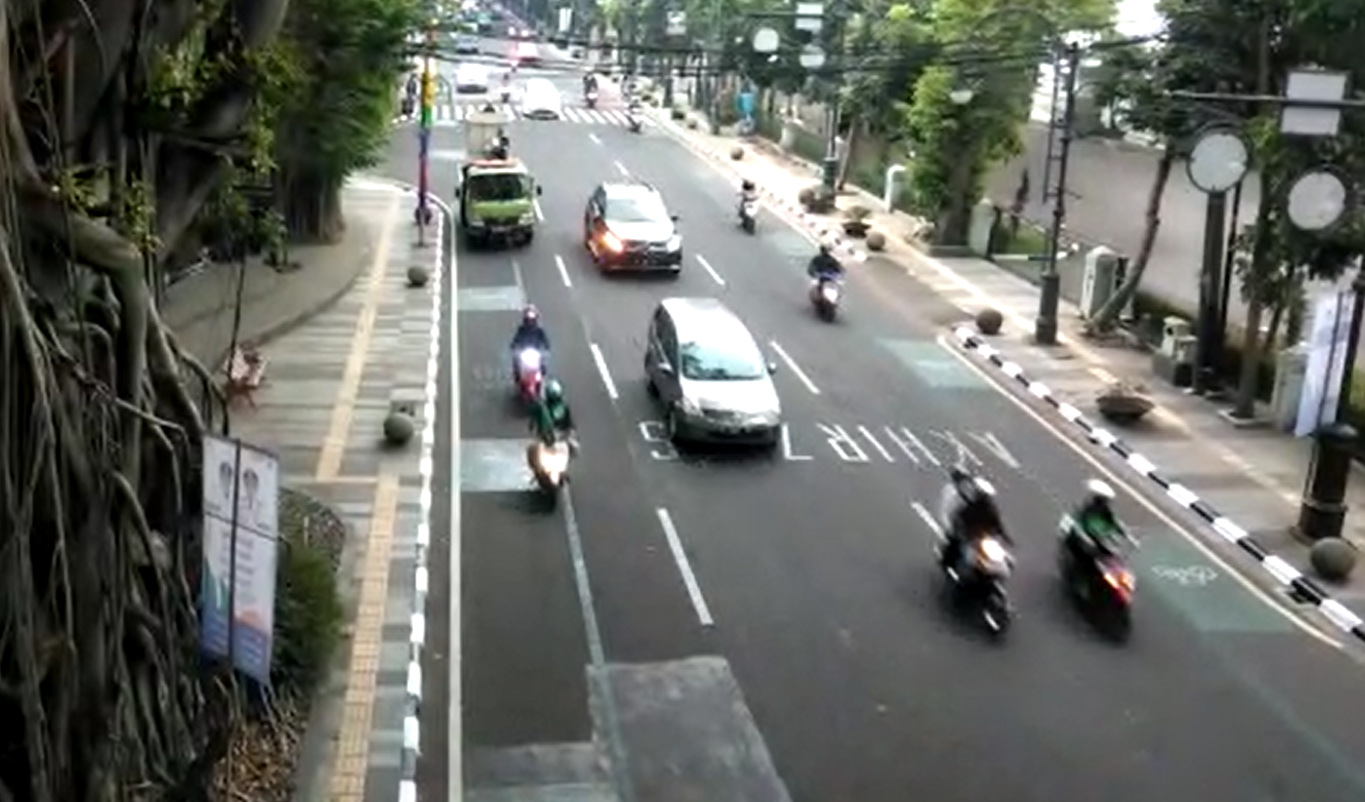mobil: (627, 284, 800, 476), (571, 171, 694, 284), (451, 143, 548, 260)
motor: (925, 455, 1028, 655), (1049, 475, 1152, 654), (514, 376, 589, 516), (507, 298, 560, 419), (798, 237, 857, 328), (733, 174, 768, 238)
